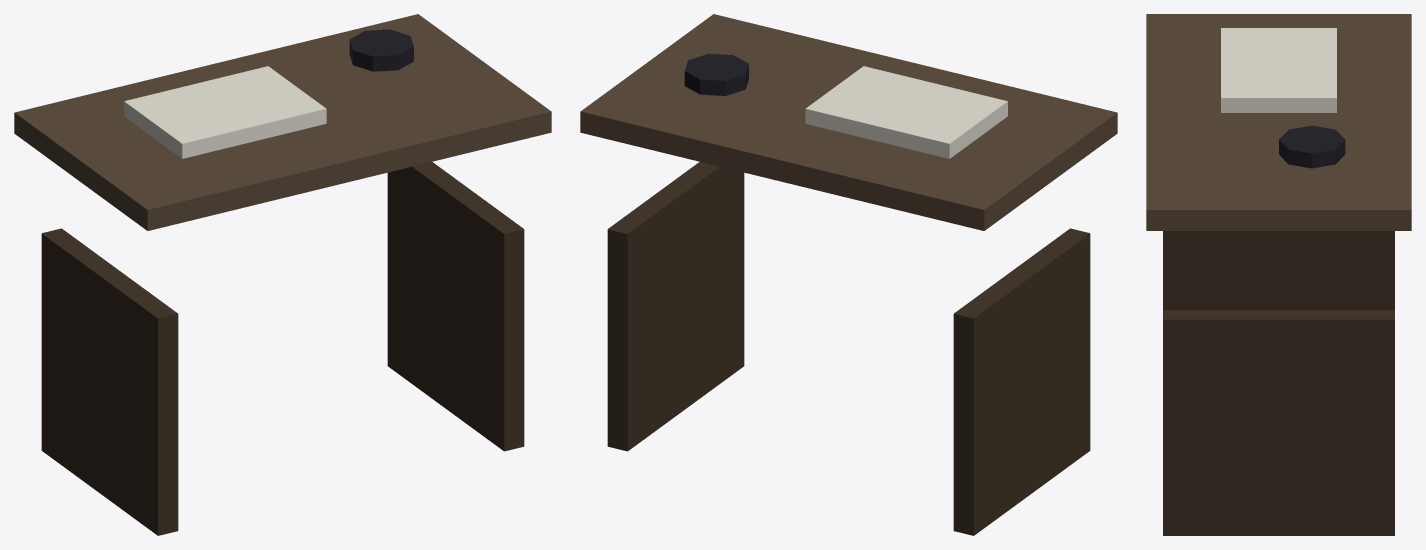
File: s2_yard_desk.glb
The picture shows the model from 3 angles, left to right: view 1: azimuth 30°, elevation 25°; view 2: azimuth 150°, elevation 25°; view 3: azimuth 270°, elevation 25°; orthographic projection.
Parts seen in each view (by area): view 1: s2_yard_desk; view 2: s2_yard_desk; view 3: s2_yard_desk.
Boxes of the visible parts, x1,y1,x2,y2 form: s2_yard_desk: [14, 14, 551, 535]; s2_yard_desk: [580, 14, 1117, 535]; s2_yard_desk: [1146, 14, 1411, 535].
Bounding box in the file's own units: 1.4 × 1.21 × 0.8.
